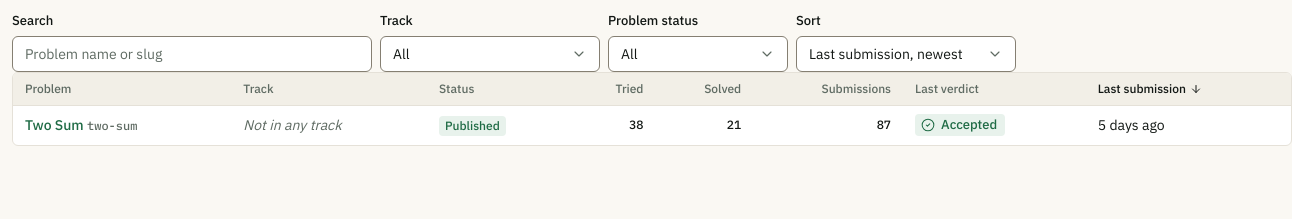
by problem › filters by track, including "Not in any track", and ignores a track that does not exist
Expected: the table is shown, left=13, top=73, right=1291, bottom=144
Click the dropdown named "Track" at (490, 54), box left=380, top=36, right=600, bottom=72
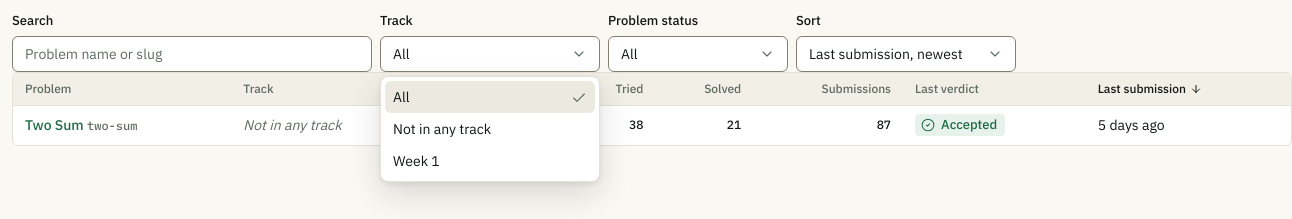
Click the option "Not in any track" at (442, 129), box left=393, top=120, right=491, bottom=138
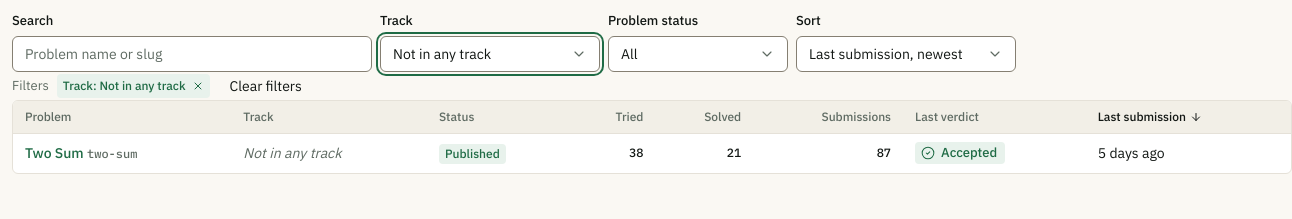
Expected: the text "Track: Not in any track" is shown, left=57, top=74, right=210, bottom=98
